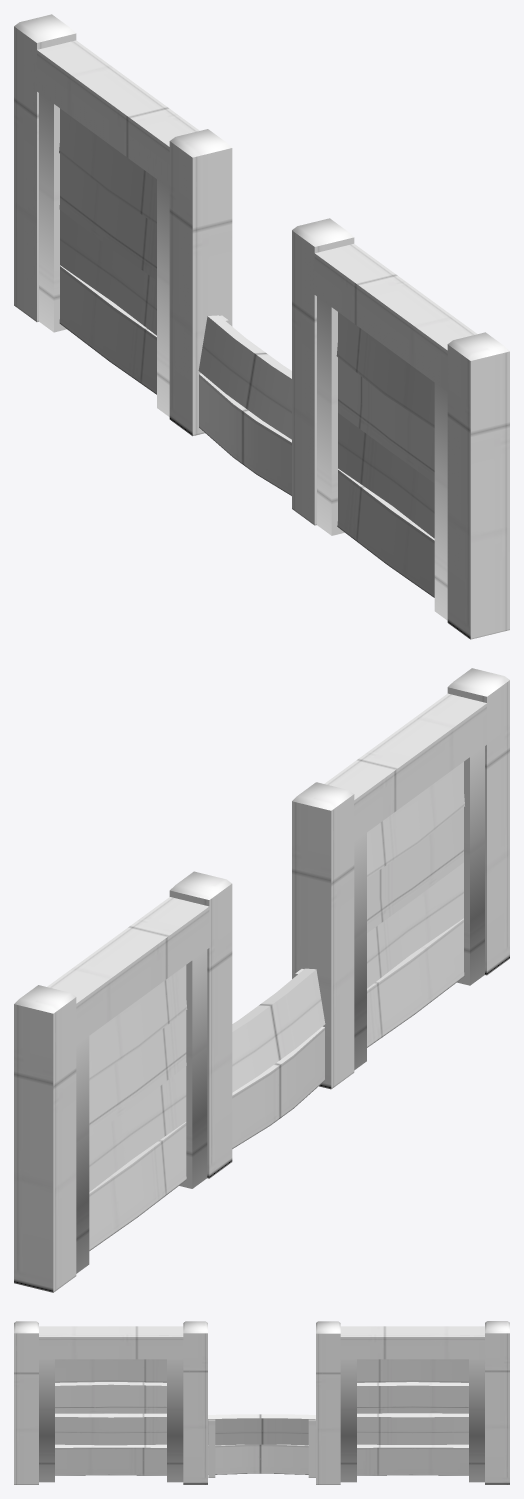
File: wall.low.cannon.glb
The picture shows the model from 3 angles, top to bottom: view 1: azimuth 30°, elevation 25°; view 2: azimuth 150°, elevation 25°; view 3: azimuth 270°, elevation 25°; orthographic projection. The views are drawn at different scales.
Visible parts, largest first — view 1: wall.low.cannon; view 2: wall.low.cannon; view 3: wall.low.cannon.
Part boxes in pixels (<box>): wall.low.cannon: <box>14,14,509,639</box>; wall.low.cannon: <box>14,668,509,1292</box>; wall.low.cannon: <box>14,1321,509,1484</box>.
Size of the model in its own units: 0.1505 by 1.03 by 3.
Materials: 1 (1 with a texture image).
